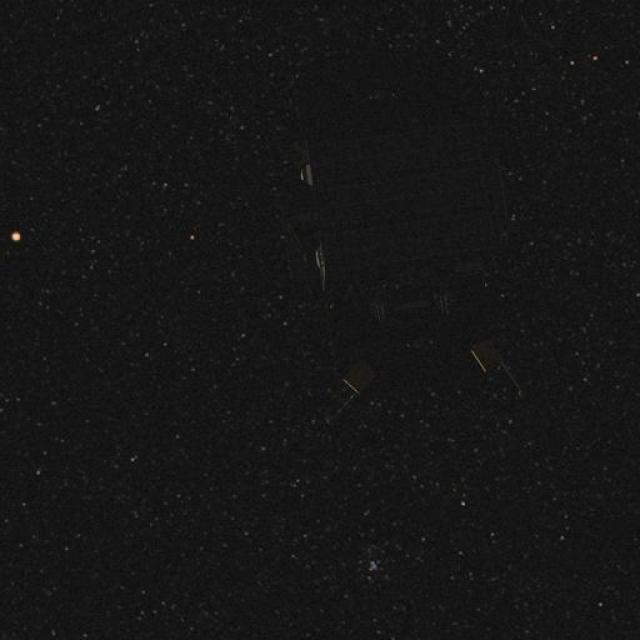proba_2: (256, 108, 552, 456)
